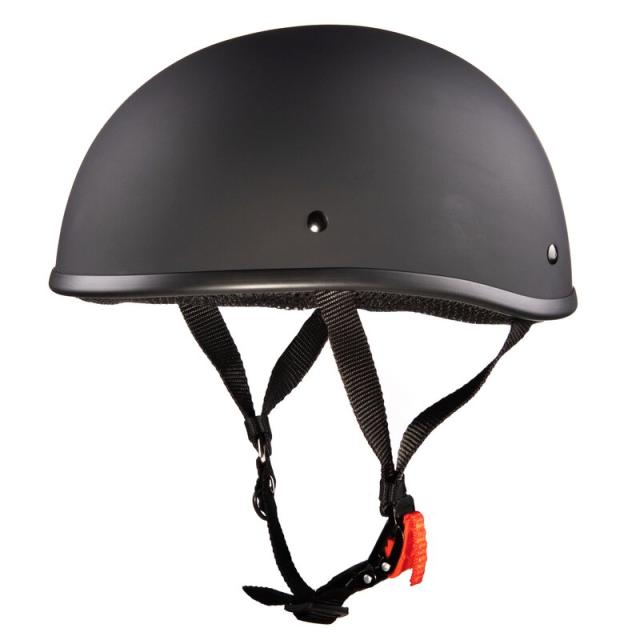illegal_helmet: (42, 8, 581, 631)
